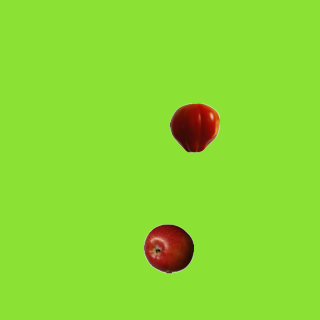Apple Braeburn: (143, 223, 193, 273)
Tomato 1: (169, 102, 219, 152)
